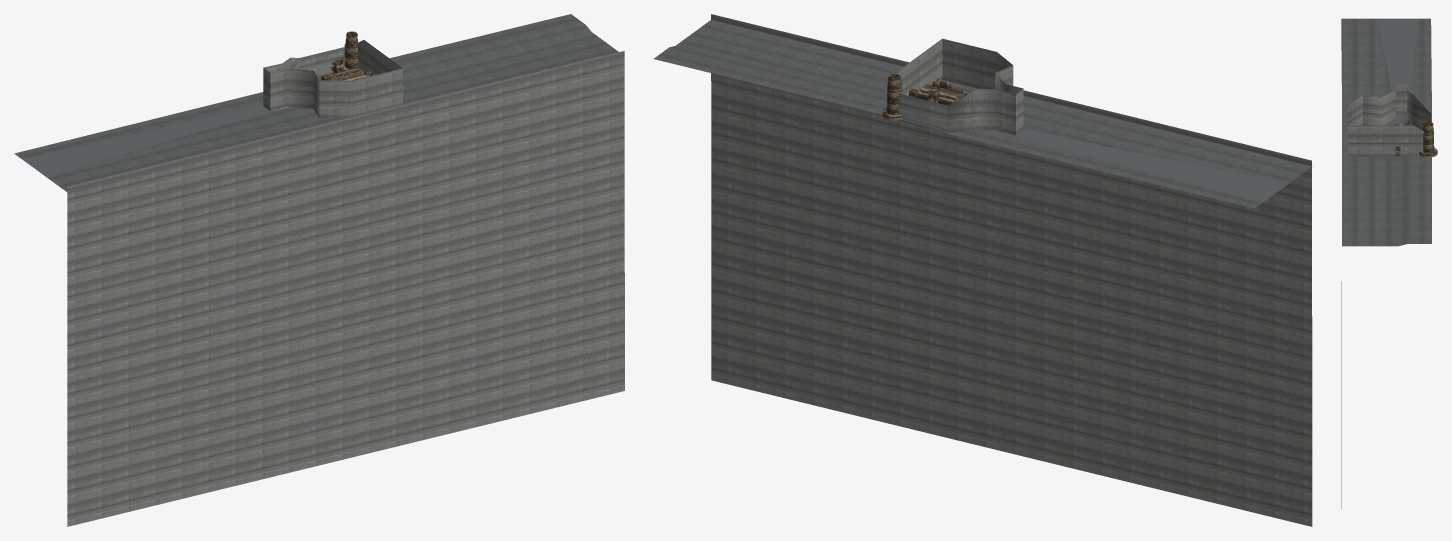
Rendered from church.gltf.
3 renders of one model, left to right at view 1: azimuth 30°, elevation 25°; view 2: azimuth 150°, elevation 25°; view 3: azimuth 270°, elevation 25°, orthographic. The views are drawn at different scales.
Parts seen in each view (by area): view 1: Plane.003, Floor-col, Walls-col; view 2: Plane.003, Floor-col, Walls-col; view 3: Floor-col, Walls-col, Spire-col, Plane.003.
Boxes of the visible parts, left/top/right/bottom form: Plane.003: left=67, top=51, right=624, bottom=526; Floor-col: left=14, top=14, right=618, bottom=192; Walls-col: left=263, top=40, right=402, bottom=118; Plane.003: left=711, top=14, right=1312, bottom=526; Floor-col: left=654, top=20, right=1312, bottom=208; Walls-col: left=897, top=38, right=1023, bottom=135; Floor-col: left=1341, top=18, right=1431, bottom=246; Walls-col: left=1348, top=82, right=1430, bottom=157; Spire-col: left=1419, top=121, right=1437, bottom=157; Plane.003: left=1341, top=281, right=1341, bottom=508.
Bounding box in the file's own units: 721 × 461 × 129.
Materials: 4 (4 with a texture image).
